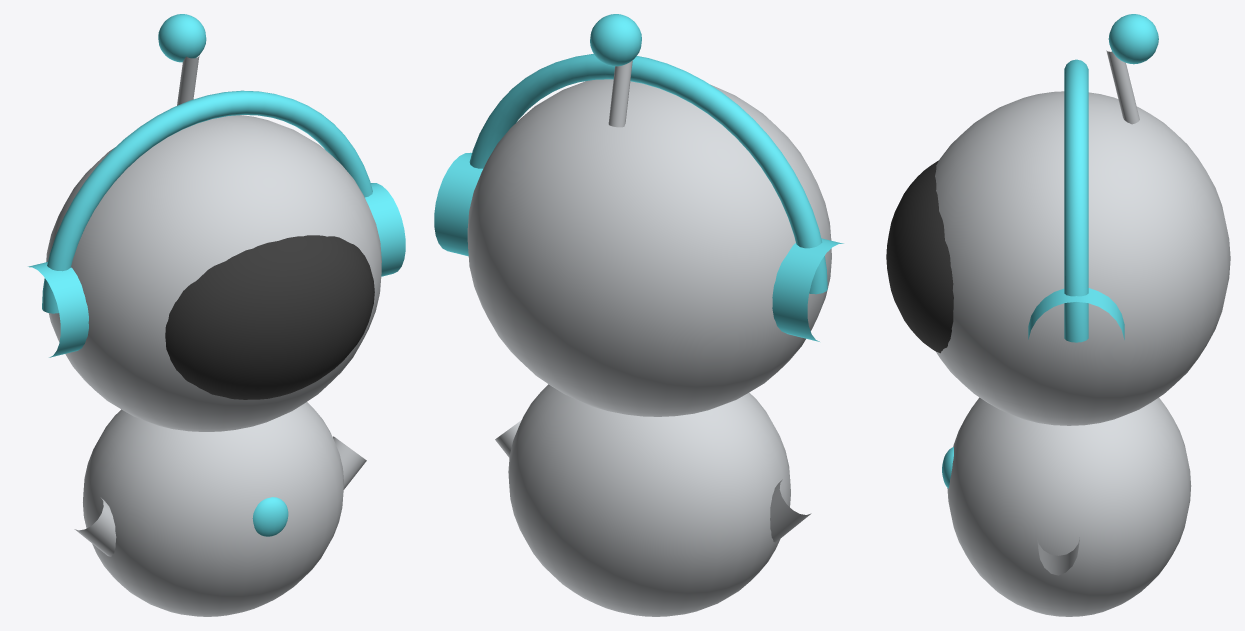
The model's file is ping.glb.
The picture shows the model from 3 angles, left to right: view 1: azimuth 30°, elevation 25°; view 2: azimuth 150°, elevation 25°; view 3: azimuth 270°, elevation 25°; orthographic projection. The views are drawn at different scales.
Parts seen in each view (by area): view 1: Ping; view 2: Ping; view 3: Ping.
Boxes of the visible parts, x1,y1,x2,y2 form: Ping: (28,14,405,616); Ping: (434,14,843,616); Ping: (886,14,1230,616).
Size of the model in its own units: 2.3 by 3.61 by 1.92.
